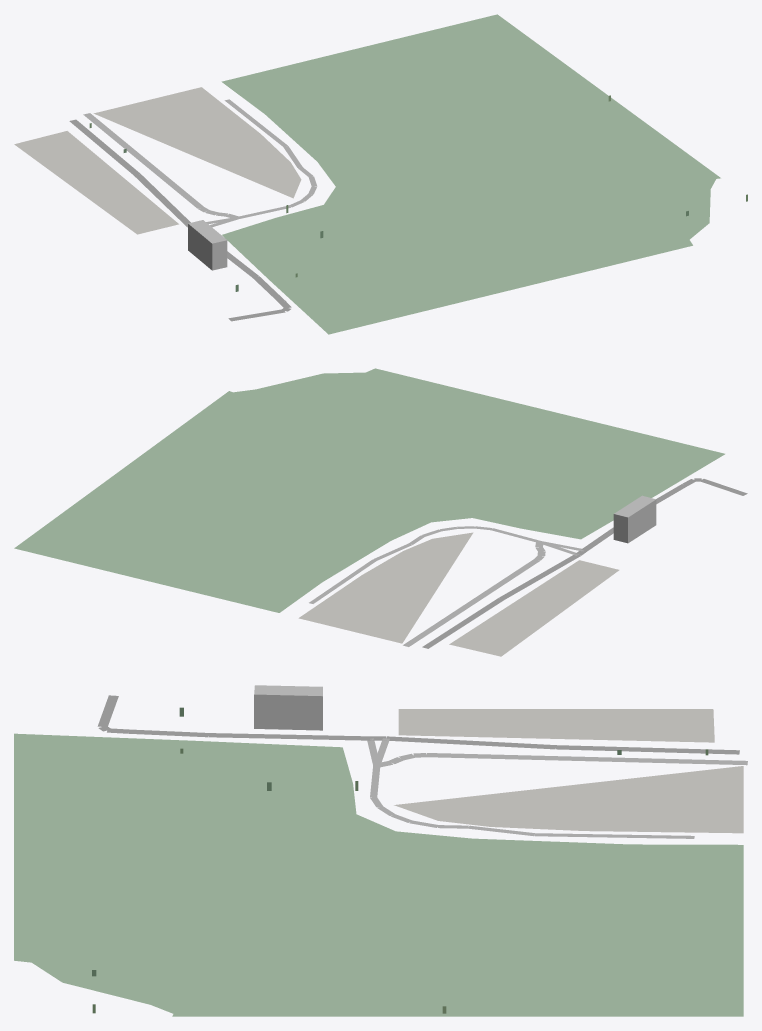
3 views of the same model, one above another, from view 1: azimuth 30°, elevation 25°; view 2: azimuth 150°, elevation 25°; view 3: azimuth 270°, elevation 25° (orthographic). The views are drawn at different scales.
Bounding box in the file's own units: 520 × 27.03 × 503.
